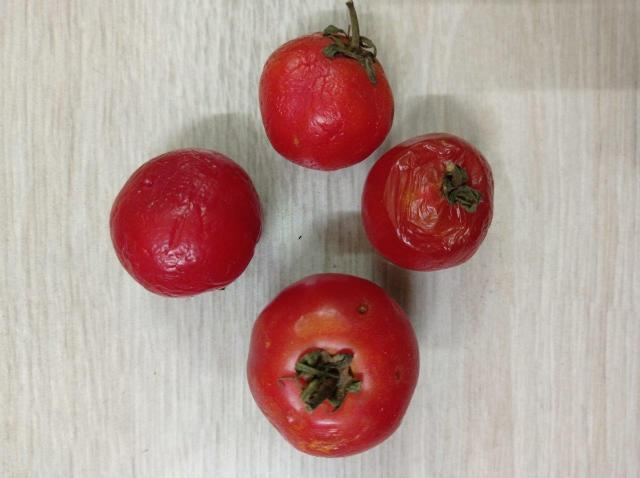defect: (246, 269, 426, 461), (254, 11, 398, 175), (355, 131, 501, 272)
